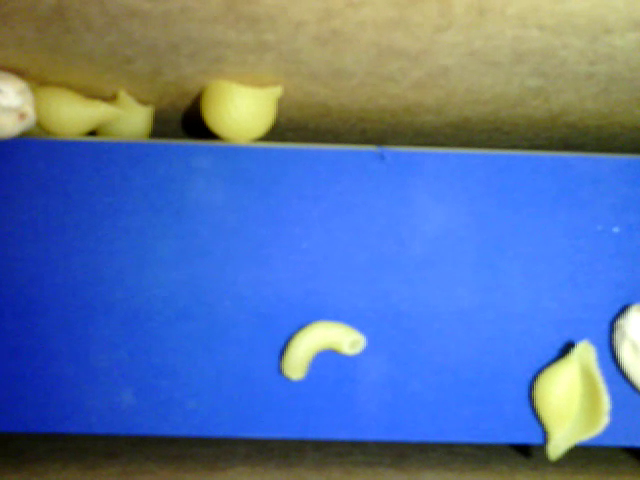elbow: (280, 319, 365, 380)
shell: (531, 339, 614, 463), (22, 74, 123, 139), (200, 79, 287, 143), (93, 89, 155, 139)
